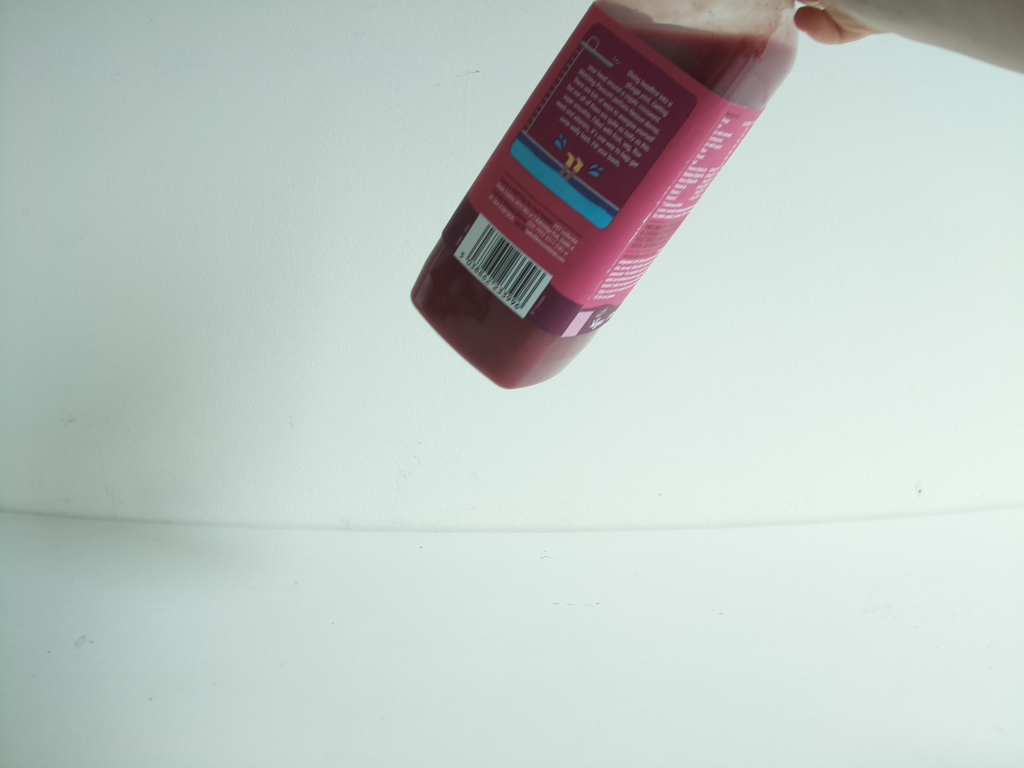juice: (408, 1, 805, 391)
